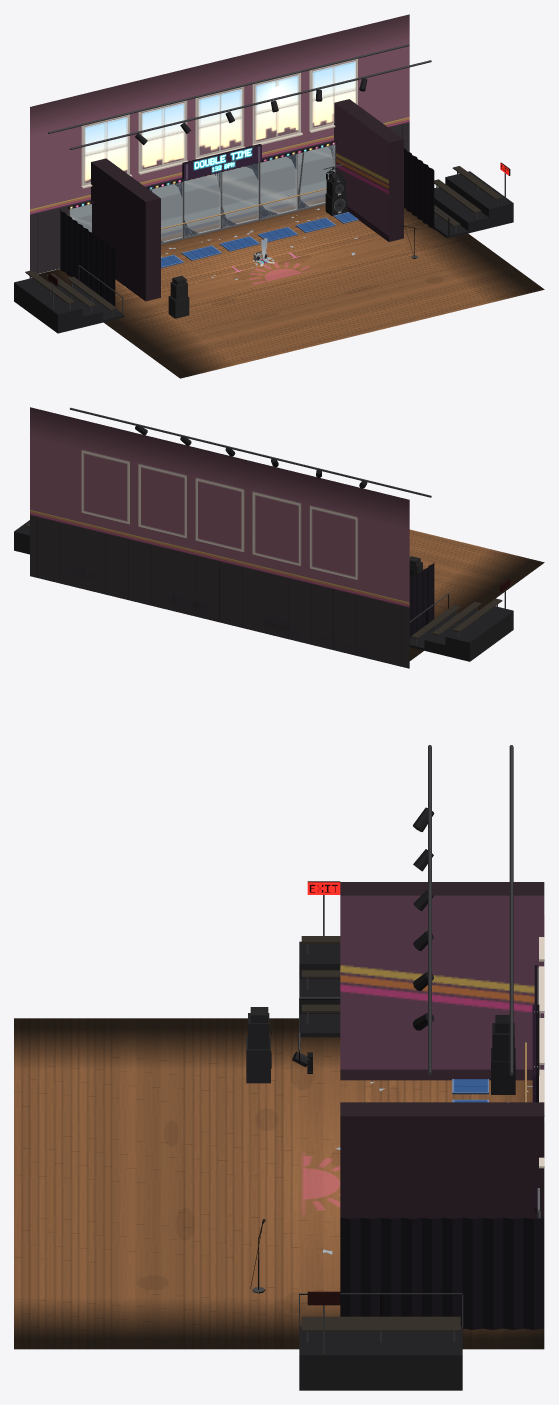
File: burn.glb
3 views of the same model, one above another, from view 1: azimuth 30°, elevation 25°; view 2: azimuth 150°, elevation 25°; view 3: azimuth 270°, elevation 25° (orthographic). The views are drawn at different scales.
Parts seen in each view (by area): view 1: set, seg_warmup, seg_double, shake_mirrors, audience, seg_burnout, shake_speakers_right, fg_left; view 2: set, audience, seg_burnout; view 3: set, seg_warmup, seg_burnout, audience, fg_left, shake_speakers_left.
Boxes of the visible parts, <box> form: set: <box>30,14,544,378</box>; seg_warmup: <box>91,99,403,301</box>; seg_double: <box>68,60,355,209</box>; shake_mirrors: <box>70,145,335,241</box>; audience: <box>14,162,513,333</box>; seg_burnout: <box>60,61,434,306</box>; shake_speakers_right: <box>325,172,347,216</box>; fg_left: <box>168,275,189,318</box>; set: <box>30,407,544,668</box>; audience: <box>14,520,513,661</box>; seg_burnout: <box>409,562,434,638</box>; set: <box>14,745,544,1349</box>; seg_warmup: <box>340,882,544,1218</box>; seg_burnout: <box>323,967,544,1329</box>; audience: <box>299,881,463,1390</box>; fg_left: <box>246,1007,271,1083</box>; shake_speakers_left: <box>491,1015,515,1094</box>.
Bounding box in the file's own units: 24 × 8.58 × 13.02.
Materials: 2 (2 with a texture image).
